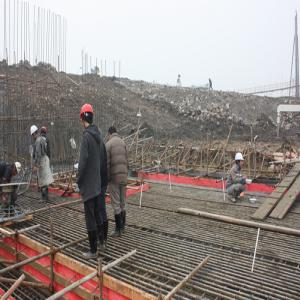none: (107, 124, 118, 141)
red: (79, 102, 95, 130), (41, 125, 48, 137)
white: (236, 151, 246, 170), (12, 161, 23, 178), (30, 124, 40, 141)
